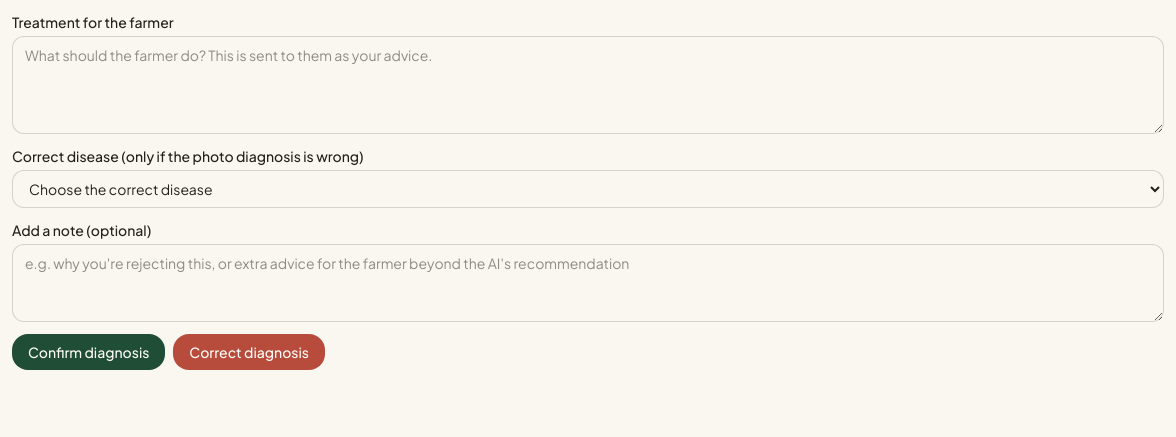
Test: ApproveRejectControls › needs both the correct disease and a treatment to correct a diagnosis
The image size is (1176, 437).
Click the button "Correct diagnosis".
click(249, 352)  # box [173,334,325,370]
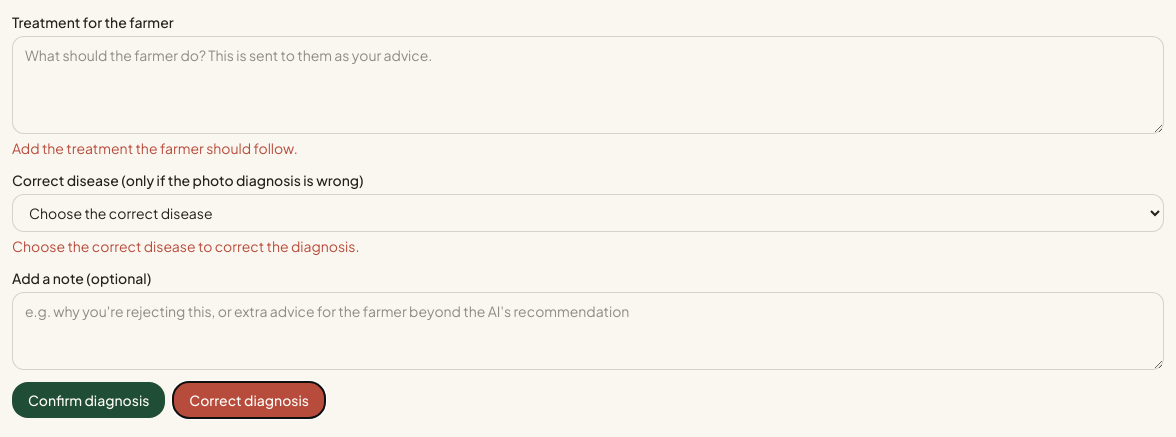
expect the text "Choose the correct disease to correct the diagnosis." is shown: met, box [12,237,360,255]
expect the text "Add the treatment the farmer should follow." is shown: met, box [12,139,298,157]
